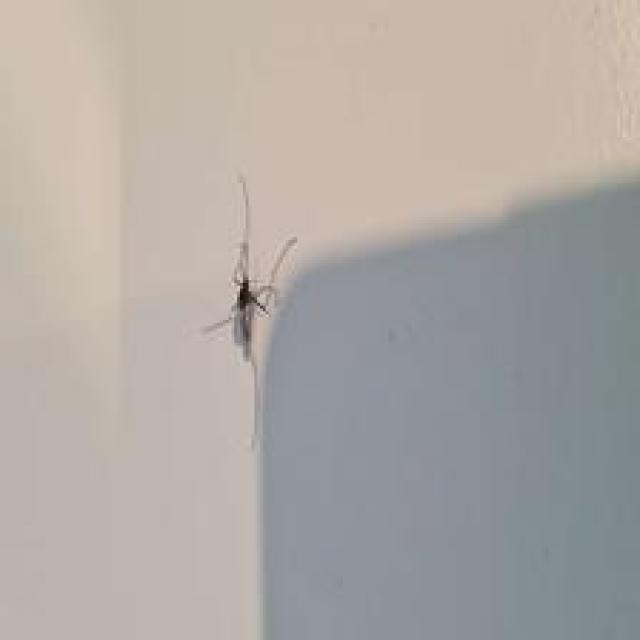Culex: (202, 174, 298, 363)
